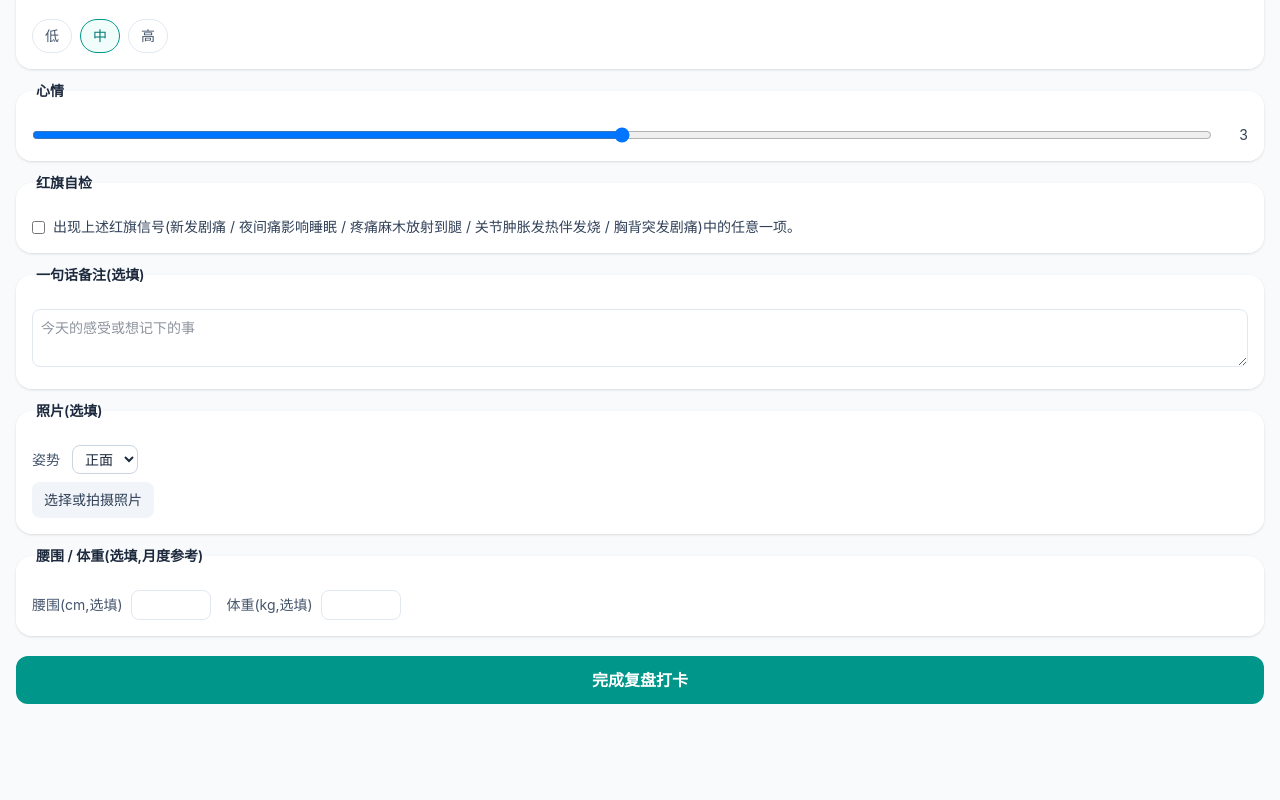
Test case: CheckInPage › 提交后显示引擎生成的明日计划卡 + 理由
(page scrolled)
Click the button "完成复盘打卡" at {"x": 640, "y": 680}, box x1=16 y1=656 x2=1264 y2=704
(page scrolled)
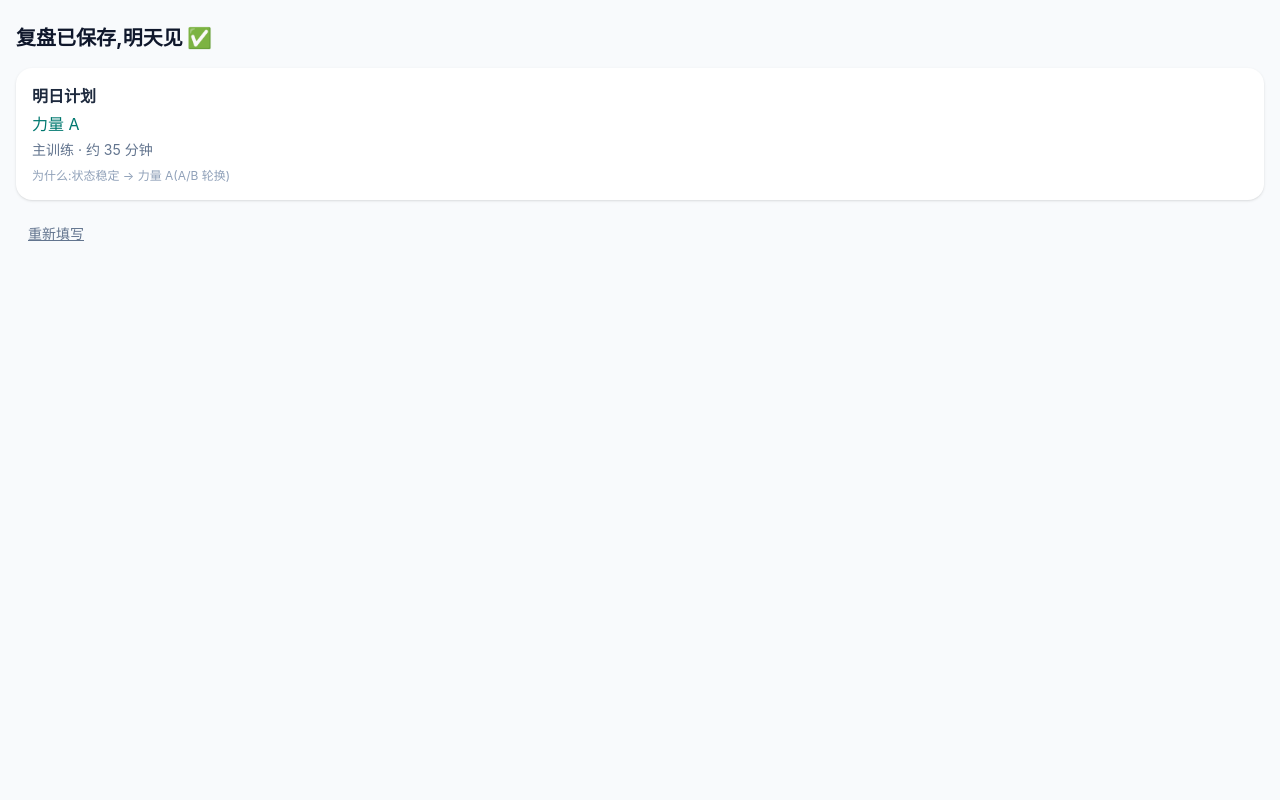
Expected: the heading "明日计划" is shown, x1=32 y1=86 x2=96 y2=106
Expected: the text "力量 A" is shown, x1=32 y1=114 x2=80 y2=134
Expected: the text "为什么:状态稳定 → 力量 A(A/B 轮换)" is shown, x1=32 y1=168 x2=230 y2=183
